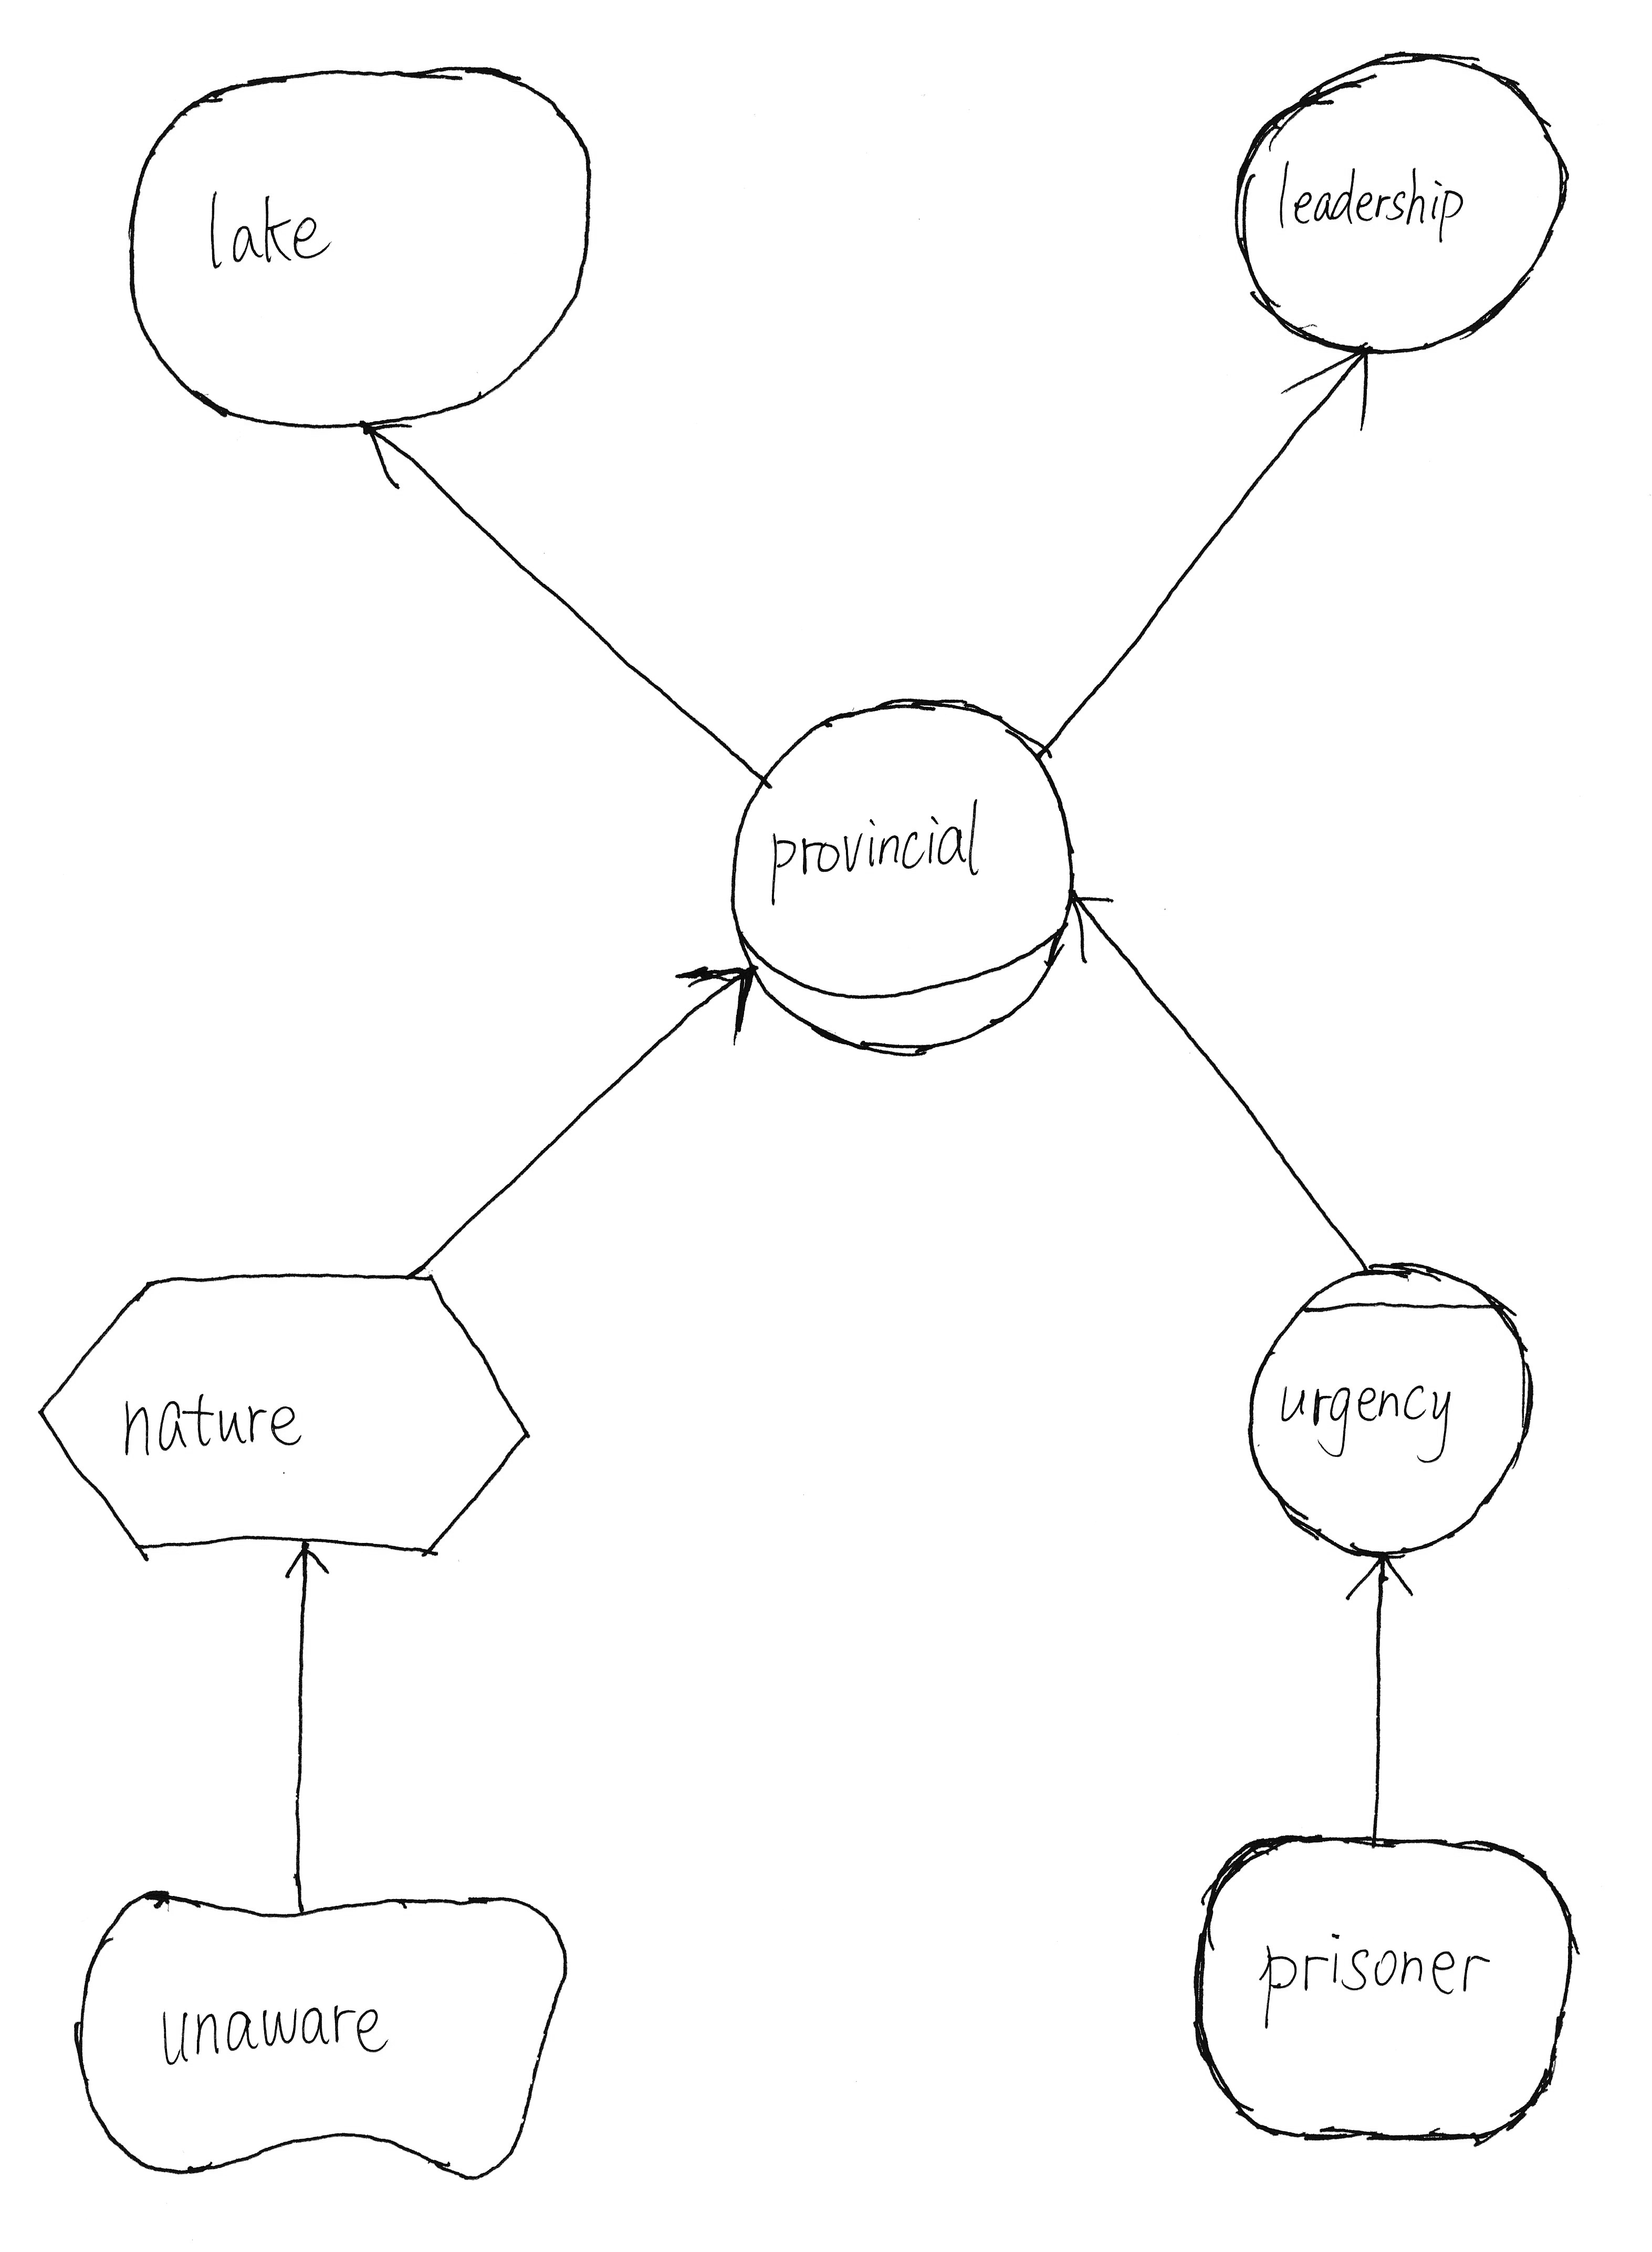actor: (1211, 28, 1600, 383)
agent: (1224, 1238, 1547, 1570)
arrow: (1044, 860, 1136, 991), (666, 941, 773, 1051), (1278, 336, 1390, 439), (257, 1514, 362, 1610), (334, 399, 432, 500), (1332, 1532, 1421, 1616)
goal: (107, 45, 614, 463), (1166, 1803, 1594, 2179)
quality: (47, 1866, 594, 2201)
role: (699, 673, 1107, 1075)
task: (14, 1250, 556, 1579)
